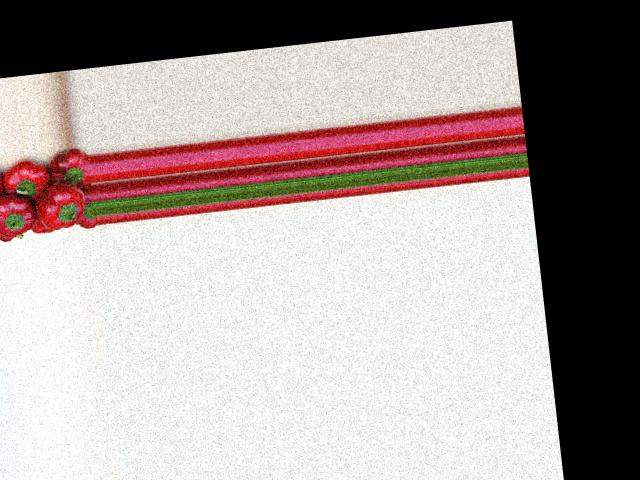bell_pepper: (30, 215, 51, 237)
